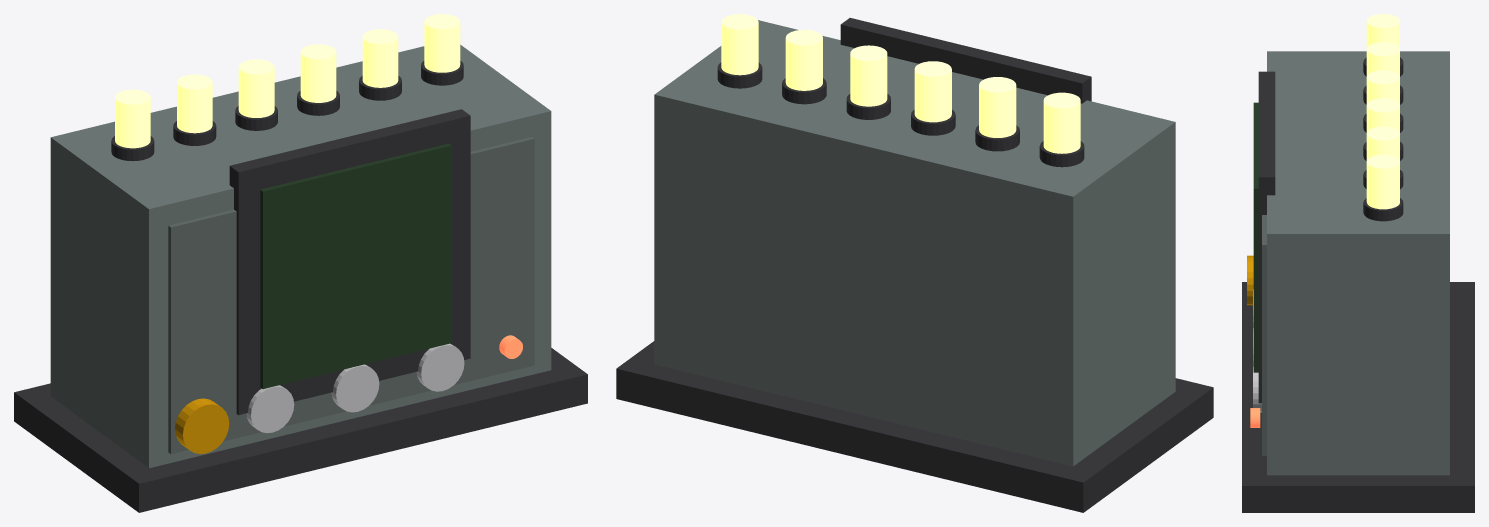
The model's file is ssem.glb.
3 views of the same model, side by side, from view 1: azimuth 30°, elevation 25°; view 2: azimuth 150°, elevation 25°; view 3: azimuth 270°, elevation 25° (orthographic). The views are drawn at different scales.
Visible parts, largest first — view 1: cabinet, screen, panel, base, screen_bezel, knob_reset, valve_4, valve_5, valve_2, valve_3, valve_0, valve_1 (+8 smaller); view 2: cabinet, base, screen_bezel, valve_3, valve_2, valve_0, valve_4, valve_5, valve_1, valve_base_0, valve_base_5, valve_base_2 (+3 smaller); view 3: cabinet, base, screen_bezel, valve_5, screen, panel, valve_4, valve_0, valve_2, valve_3, valve_1, valve_base_5 (+1 smaller).
Part boxes in pixels (<box>): cabinet: <box>50,44,551,468</box>; screen: <box>260,143,451,388</box>; panel: <box>168,137,534,453</box>; base: <box>14,348,587,512</box>; screen_bezel: <box>229,109,470,415</box>; knob_reset: <box>175,398,229,453</box>; valve_4: <box>362,29,398,87</box>; valve_5: <box>424,14,460,72</box>; valve_2: <box>238,59,274,117</box>; valve_3: <box>300,44,336,102</box>; valve_0: <box>115,89,150,148</box>; valve_1: <box>177,74,212,133</box>; cabinet: <box>654,20,1175,466</box>; base: <box>616,341,1213,512</box>; screen_bezel: <box>840,18,1091,103</box>; valve_3: <box>850,45,887,106</box>; valve_2: <box>914,61,951,122</box>; valve_0: <box>1043,92,1080,153</box>; valve_4: <box>785,29,822,90</box>; valve_5: <box>721,14,758,75</box>; valve_1: <box>979,77,1016,137</box>; valve_base_0: <box>1039,141,1084,167</box>; valve_base_5: <box>717,62,762,88</box>; valve_base_2: <box>911,109,955,135</box>; cabinet: <box>1267,51,1449,475</box>; base: <box>1242,282,1474,512</box>; screen_bezel: <box>1258,71,1275,403</box>; valve_5: <box>1366,154,1399,209</box>; screen: <box>1253,102,1258,372</box>; panel: <box>1262,215,1266,455</box>; valve_4: <box>1366,126,1399,161</box>; valve_0: <box>1366,14,1399,48</box>; valve_2: <box>1366,70,1399,104</box>; valve_3: <box>1366,98,1399,132</box>; valve_1: <box>1366,42,1399,76</box>; valve_base_5: <box>1363,198,1403,221</box>.
Size of the model in its own units: 2.9 by 2.12 by 1.4.
